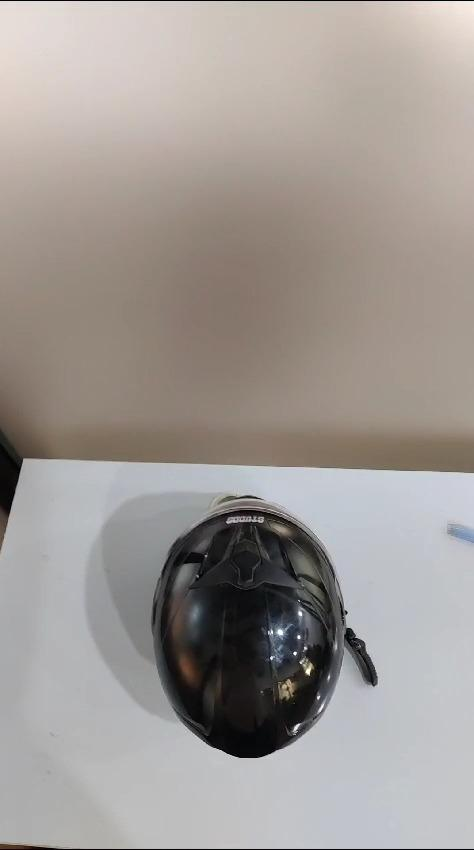Helmet: (148, 486, 361, 769)
